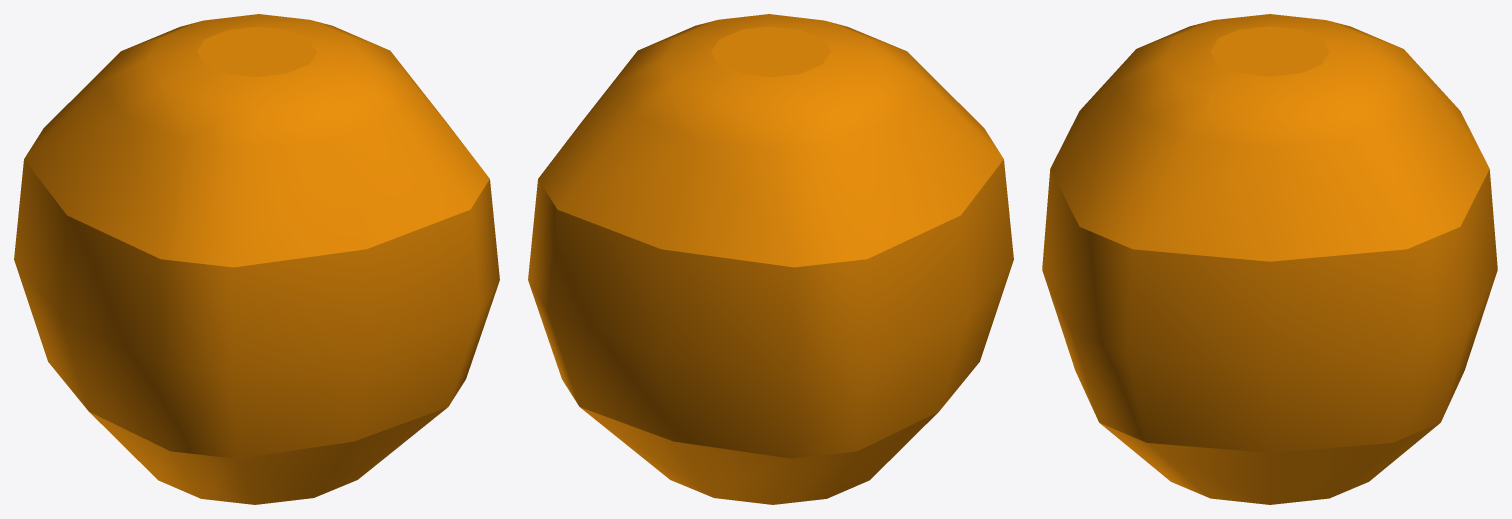
File: Orange.fbx
3 renders of one model, left to right at view 1: azimuth 30°, elevation 25°; view 2: azimuth 150°, elevation 25°; view 3: azimuth 270°, elevation 25°, orthographic.
Visible parts, largest first — view 1: Orange1; view 2: Orange1; view 3: Orange1.
Boxes of the visible parts, x1,y1,x2,y2 form: Orange1: [14, 14, 499, 504]; Orange1: [528, 14, 1013, 504]; Orange1: [1042, 14, 1497, 504].
Size of the model in its own units: 0.2889 by 0.2834 by 0.2889.
